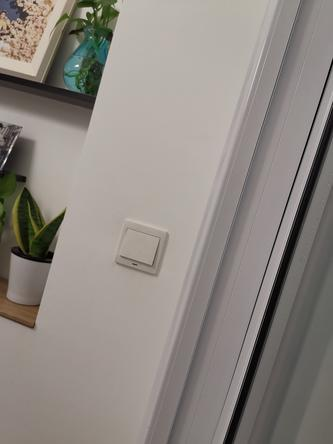switch: (115, 227, 161, 266)
